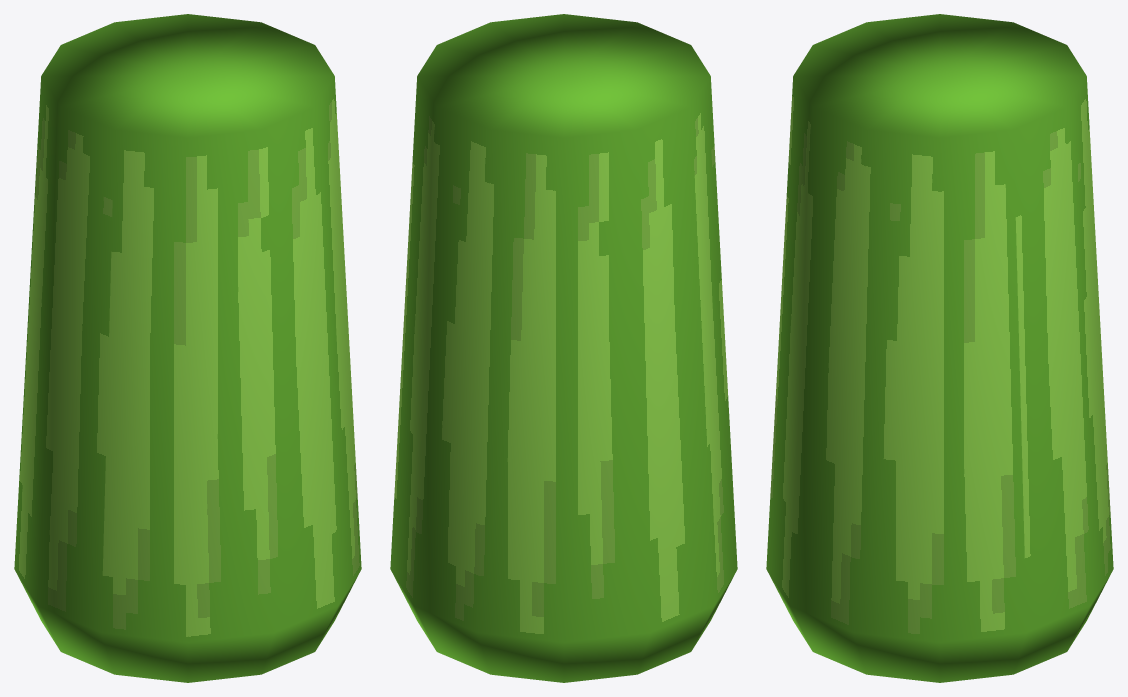
The model's file is sphen_joint.fbx.
The picture shows the model from 3 angles, left to right: view 1: azimuth 30°, elevation 25°; view 2: azimuth 150°, elevation 25°; view 3: azimuth 270°, elevation 25°; orthographic projection.
Parts seen in each view (by area): view 1: sphen_joint; view 2: sphen_joint; view 3: sphen_joint.
Part boxes in pixels (x1,y1,x2,y2): sphen_joint: (14,14,361,682); sphen_joint: (390,14,737,682); sphen_joint: (766,14,1113,682).
Bounding box in the file's own units: 2.36 × 4.1 × 2.36.
Materials: 1 (1 with a texture image).
